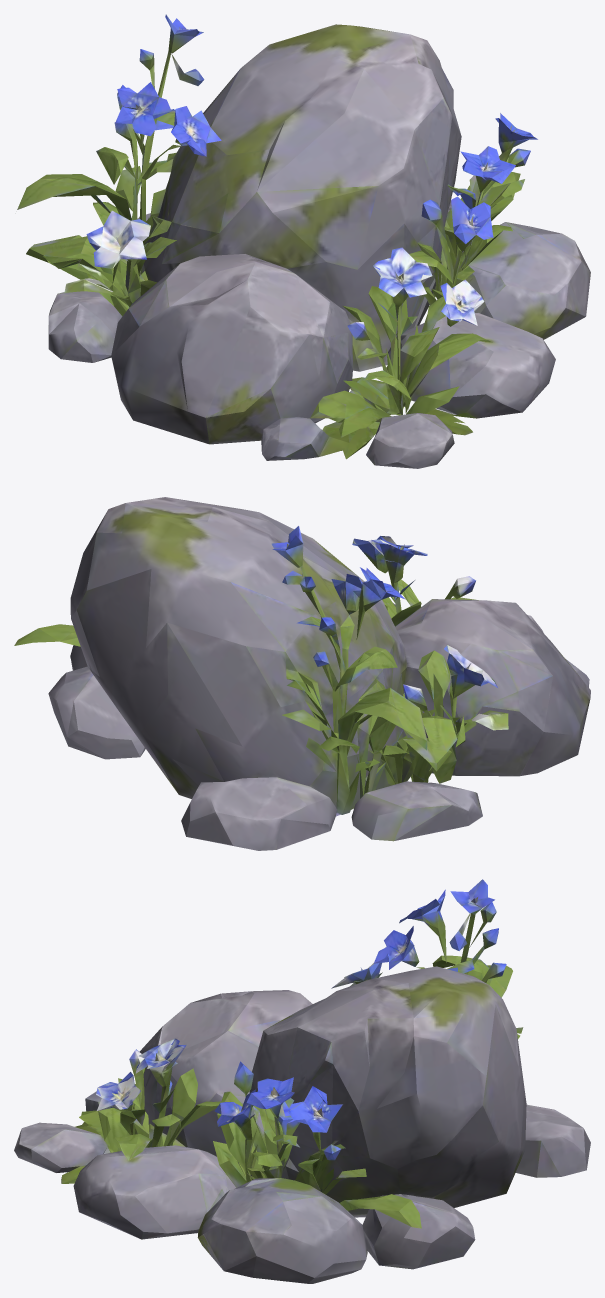
Rendered from forest_pebbles.glb.
The picture shows the model from 3 angles, top to bottom: view 1: azimuth 30°, elevation 25°; view 2: azimuth 150°, elevation 25°; view 3: azimuth 270°, elevation 25°; orthographic projection. The views are drawn at different scales.
Visible parts, largest first — view 1: output_unwrapped; view 2: output_unwrapped; view 3: output_unwrapped.
Boxes of the visible parts, x1=… form: output_unwrapped: x1=17, y1=14, x2=590, y2=468; output_unwrapped: x1=14, y1=497, x2=590, y2=850; output_unwrapped: x1=14, y1=879, x2=590, y2=1283.
Bounding box in the file's own units: 1.74 × 0.9758 × 1.9.
Materials: 1 (1 with a texture image).
